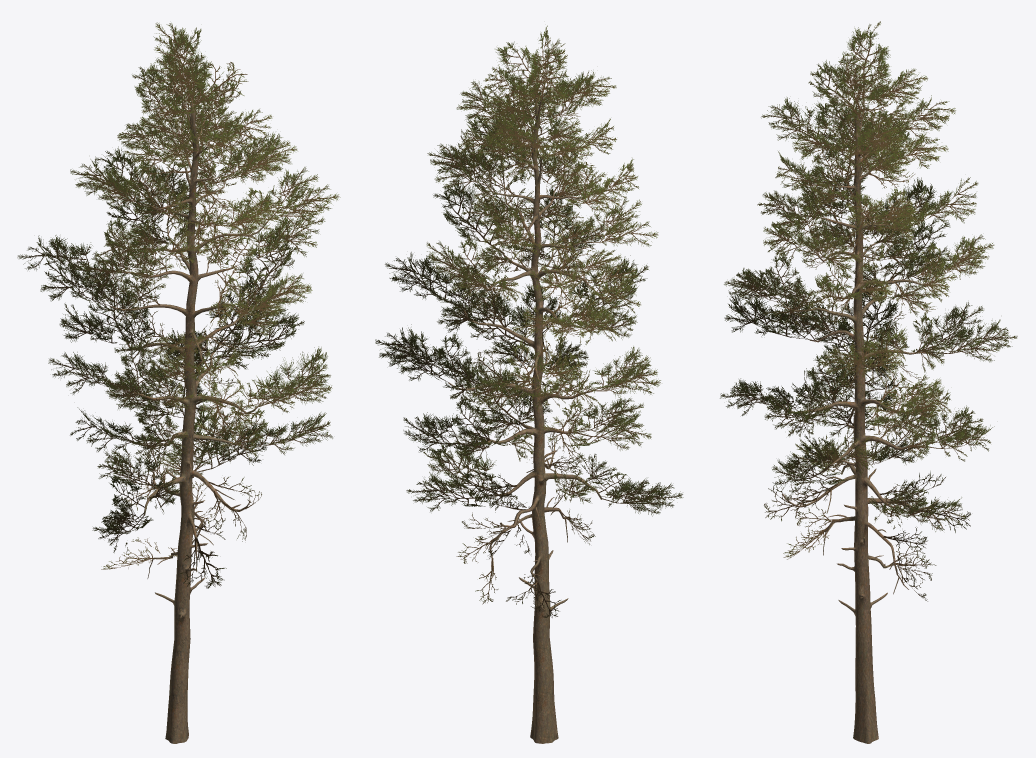
File: SM_Pine_03.fbx
3 renders of one model, left to right at view 1: azimuth 30°, elevation 25°; view 2: azimuth 150°, elevation 25°; view 3: azimuth 270°, elevation 25°, orthographic.
Visible parts, largest first — view 1: SM_Pine_03_LOD0; view 2: SM_Pine_03_LOD0; view 3: SM_Pine_03_LOD0.
Boxes of the visible parts, left/top/right/bottom form: SM_Pine_03_LOD0: left=17, top=22, right=340, bottom=743; SM_Pine_03_LOD0: left=375, top=25, right=683, bottom=743; SM_Pine_03_LOD0: left=720, top=21, right=1017, bottom=743.
Size of what is drawn, in the model's own units: 787 by 1976 by 762.
2 materials, 2 textured.
